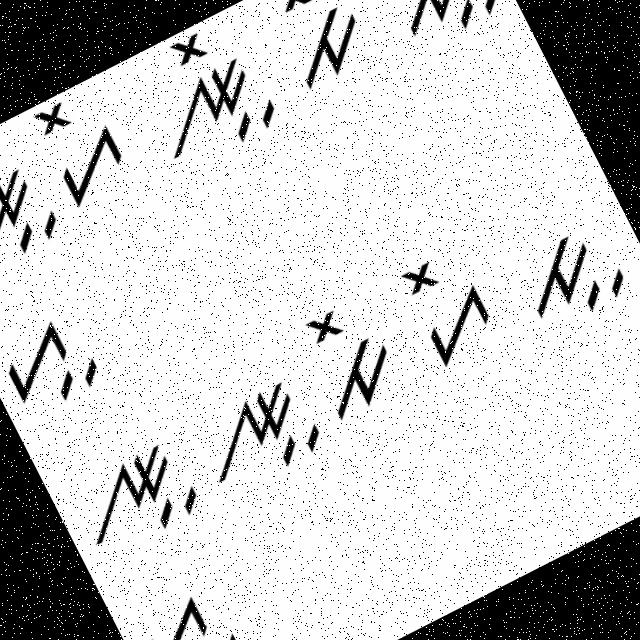hah: (0, 299, 118, 433), (125, 573, 256, 639)
ho: (390, 242, 511, 380), (22, 77, 145, 212)
mbah: (508, 213, 639, 353), (373, 0, 514, 65)
mbo: (287, 286, 414, 428), (252, 0, 386, 106)
ndah: (60, 422, 216, 572), (184, 362, 334, 504), (0, 154, 70, 292)
ndo: (123, 10, 278, 154)
